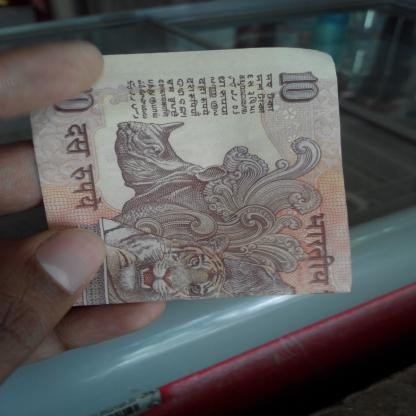Old10Back: (31, 47, 353, 307)
